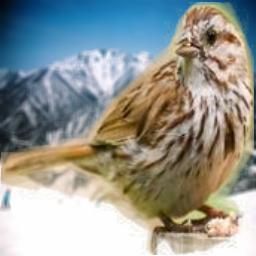Sparrow: (1, 2, 254, 255)
